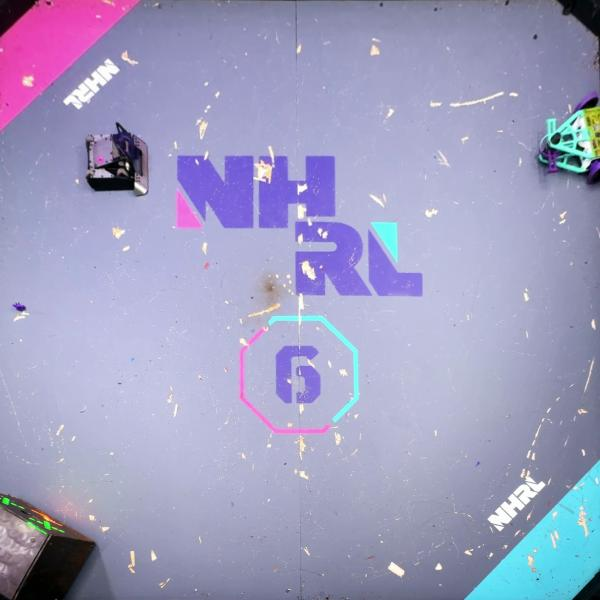housebot: (0, 491, 98, 600)
robot: (536, 90, 600, 186), (84, 122, 150, 197)
